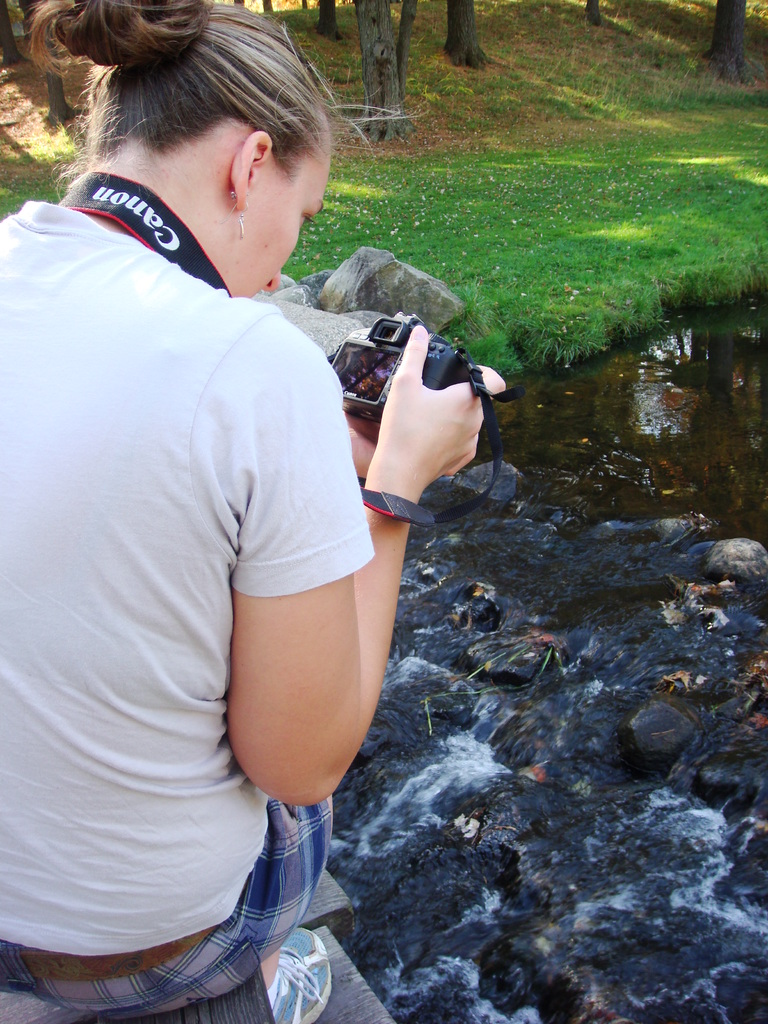Human_hand: (353, 328, 493, 513), (339, 407, 387, 488)
